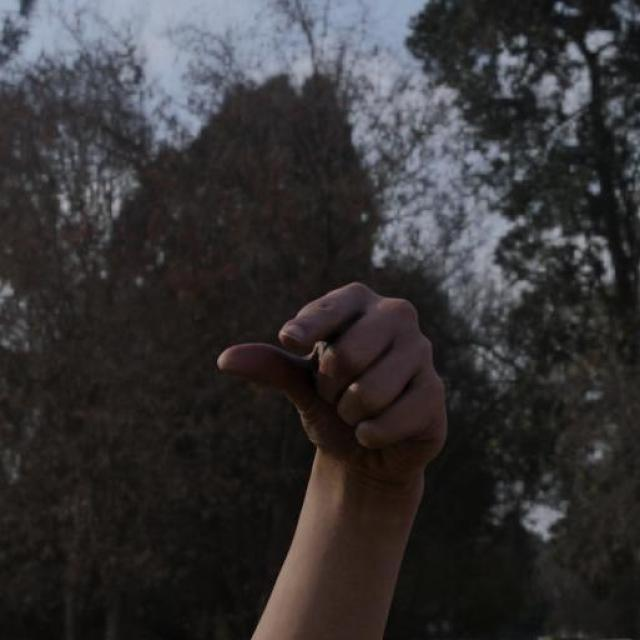G: (213, 277, 452, 489)
